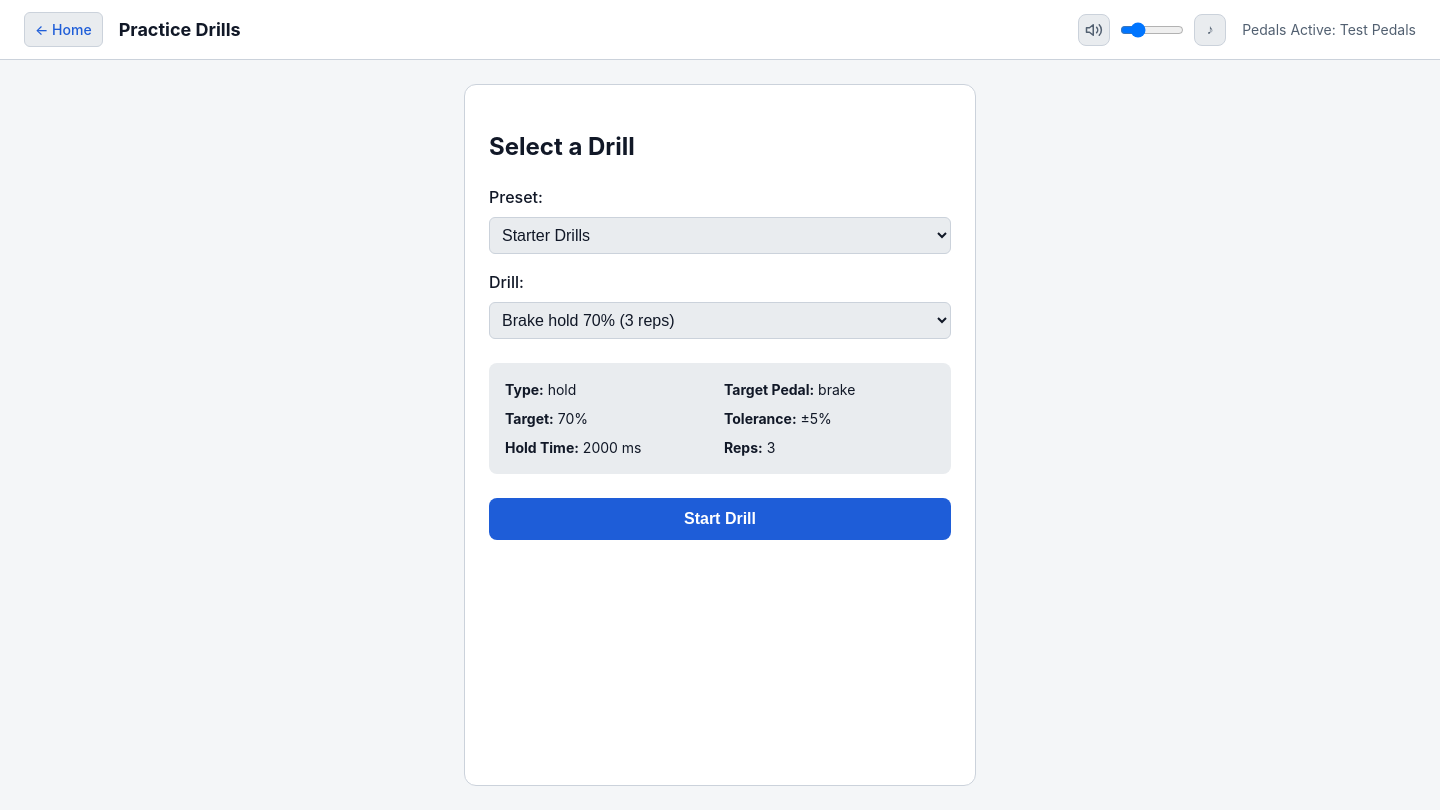
Test: Drill page › shows 'No scored reps.' when the set finishes without a summary
Click the button "Start Drill".
click(720, 519)  # box [489,498,951,540]
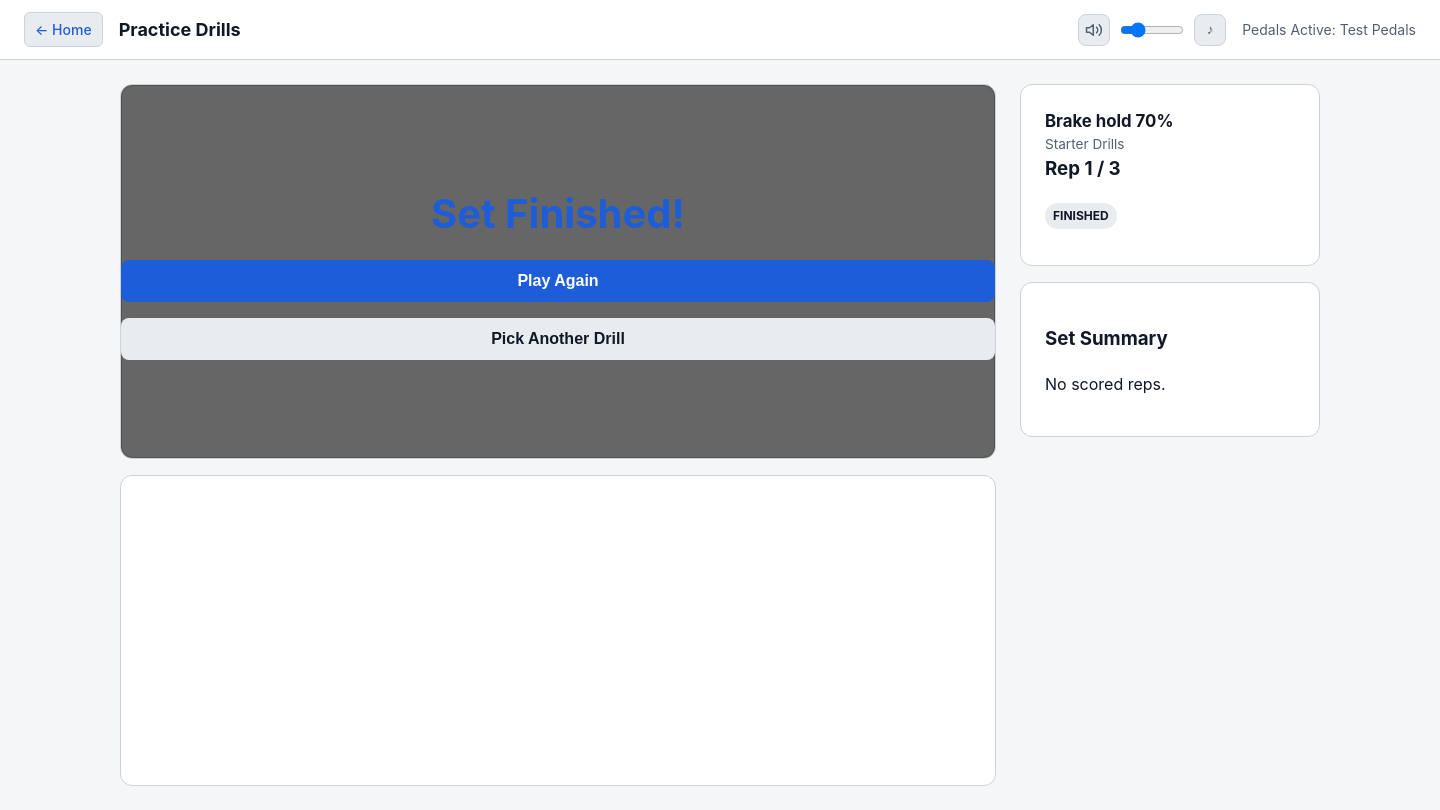
Check: the text "No scored reps." is shown, box [1045,374,1166,394]
